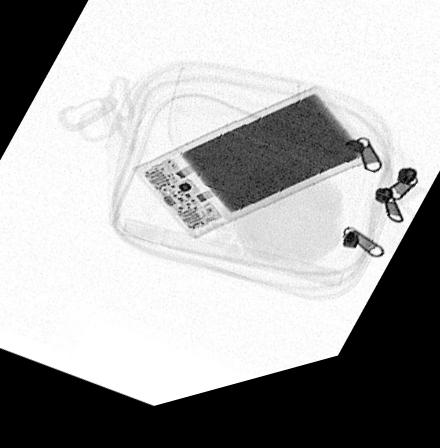Powerbank: (135, 103, 372, 250)
